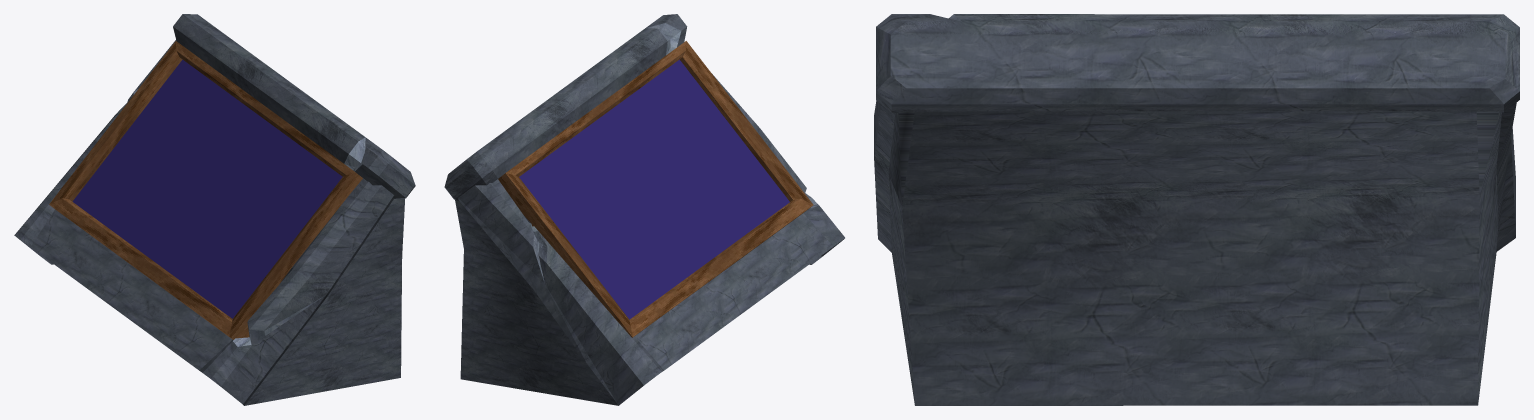
The model's file is s0_Str_Pannel_Score_01.glb.
The picture shows the model from 3 angles, left to right: view 1: azimuth 30°, elevation 25°; view 2: azimuth 150°, elevation 25°; view 3: azimuth 270°, elevation 25°; orthographic projection. The views are drawn at different scales.
Visible parts, largest first — view 1: node_Str_Pannel_Score; view 2: node_Str_Pannel_Score; view 3: node_Str_Pannel_Score.
Boxes of the visible parts, x1,y1,x2,y2 form: node_Str_Pannel_Score: (14, 14, 415, 405); node_Str_Pannel_Score: (444, 14, 844, 405); node_Str_Pannel_Score: (874, 14, 1519, 405).
Bounding box in the file's own units: 1.27 × 1.37 × 2.17.
4 materials, 3 textured.
